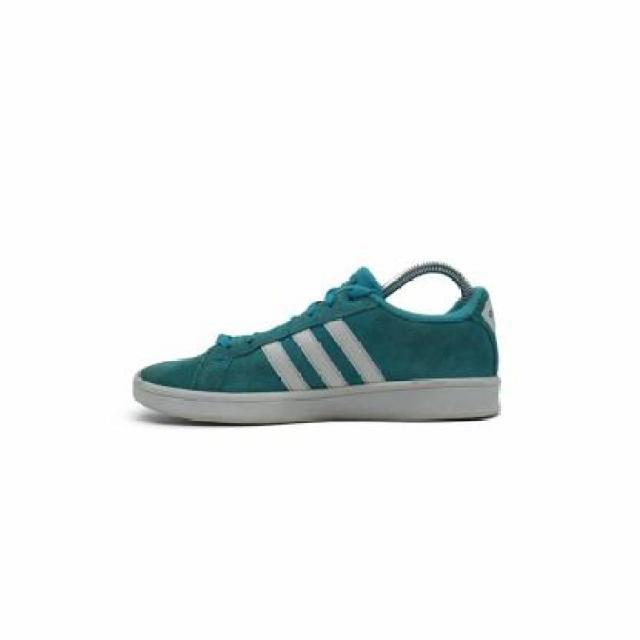Adidas: (264, 312, 399, 404)
